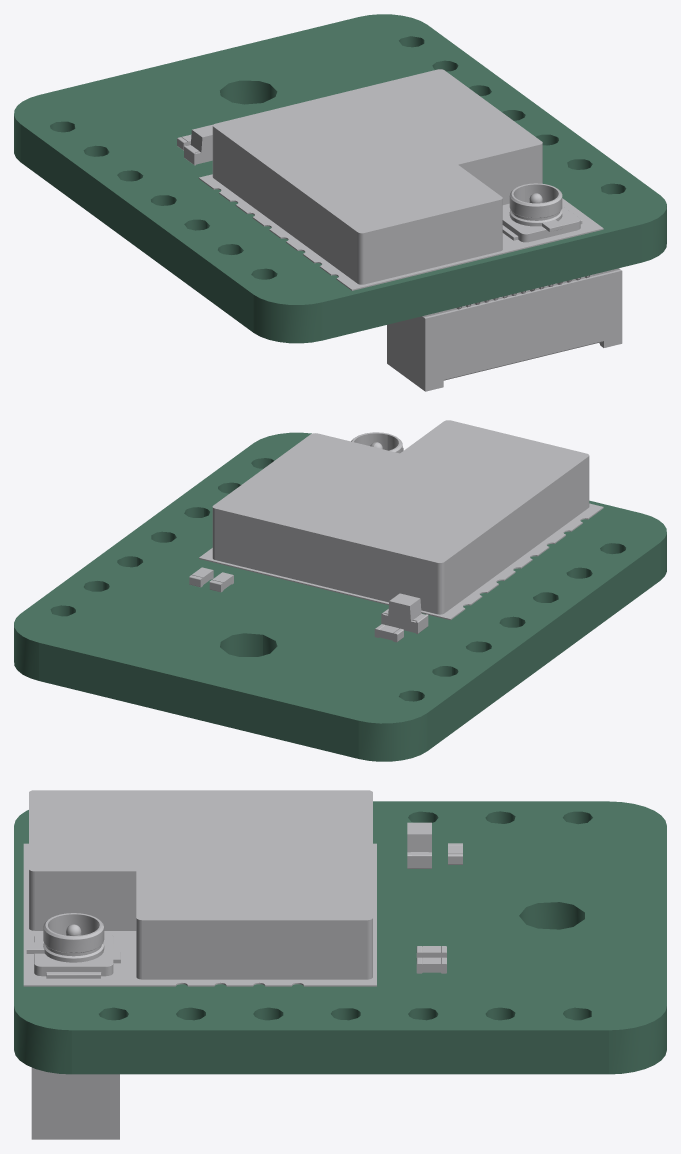
The model's file is seeed-wio-sx1262_for_xiao_3d_file.glb.
3 renders of one model, top to bottom at view 1: azimuth 30°, elevation 25°; view 2: azimuth 150°, elevation 25°; view 3: azimuth 270°, elevation 25°, orthographic. The views are drawn at different scales.
Visible parts, largest first — view 1: 0.08333333333333333_0.16666666666666666_0.16666666666666666_, 0.5833333333333334_0.5833333333333334_0.5833333333333334_0.8; view 2: 0.08333333333333333_0.16666666666666666_0.16666666666666666_, 0.5833333333333334_0.5833333333333334_0.5833333333333334_0.8; view 3: 0.08333333333333333_0.16666666666666666_0.16666666666666666_, 0.5833333333333334_0.5833333333333334_0.5833333333333334_0.8.
Part boxes in pixels (x1,y1,x2,y2): 0.08333333333333333_0.16666666666666666_0.16666666666666666_: (14,14,666,343); 0.5833333333333334_0.5833333333333334_0.5833333333333334_0.8: (177,69,622,391); 0.08333333333333333_0.16666666666666666_0.16666666666666666_: (14,432,666,761); 0.5833333333333334_0.5833333333333334_0.5833333333333334_0.8: (189,420,603,642); 0.08333333333333333_0.16666666666666666_0.16666666666666666_: (14,801,666,1074); 0.5833333333333334_0.5833333333333334_0.5833333333333334_0.8: (23,790,462,1139).
Bounding box in the file's own units: 1.78 × 0.73 × 2.14.
